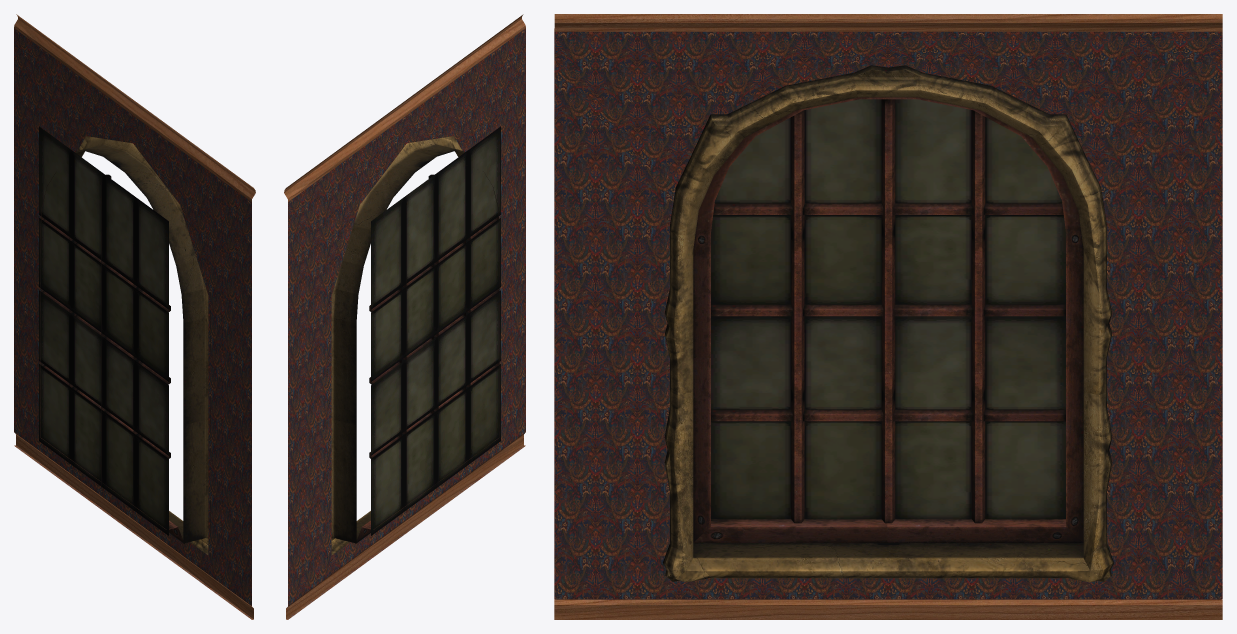
Rendered from flower_power1_big_window.dae.
3 views of the same model, side by side, from view 1: azimuth 30°, elevation 25°; view 2: azimuth 150°, elevation 25°; view 3: azimuth 270°, elevation 25° (orthographic). The views are drawn at different scales.
Parts seen in each view (by area): view 1: Plane_004, window02_large_glass_, window02_large_frame3; view 2: Plane_004, window02_large_glass_, window02_large_frame3; view 3: Plane_004, window02_large_glass_, window02_large_frame3.
Boxes of the visible parts, x1,y1,x2,y2 form: Plane_004: [14, 14, 255, 619]; window02_large_glass_: [39, 126, 168, 535]; window02_large_frame3: [40, 128, 212, 561]; Plane_004: [284, 14, 525, 619]; window02_large_glass_: [371, 126, 500, 535]; window02_large_frame3: [326, 136, 499, 561]; Plane_004: [554, 14, 1222, 619]; window02_large_glass_: [711, 99, 1065, 519]; window02_large_frame3: [663, 65, 1113, 582].
Size of the model in its own units: 0.4034 by 4 by 4.
